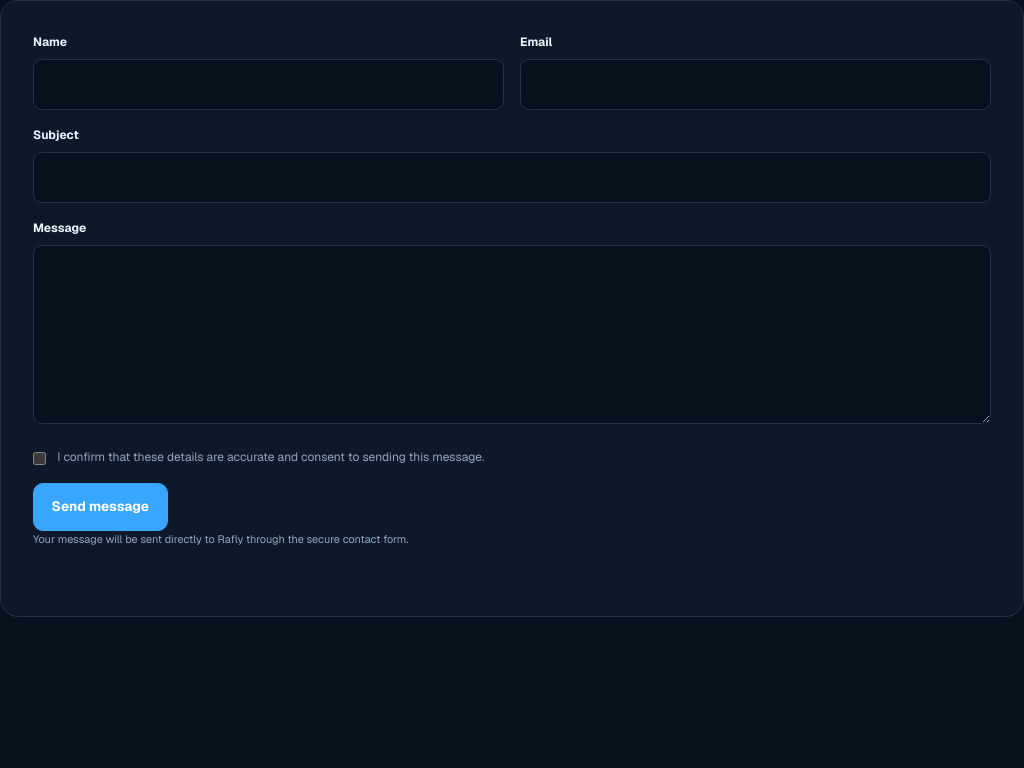
Test: ContactForm › preserves values on server failure
The width and height of the screenshot is (1024, 768).
Step 1. Type "Test Visitor" into the field labelled "Name" → point(268, 84), box [33,59,504,110]
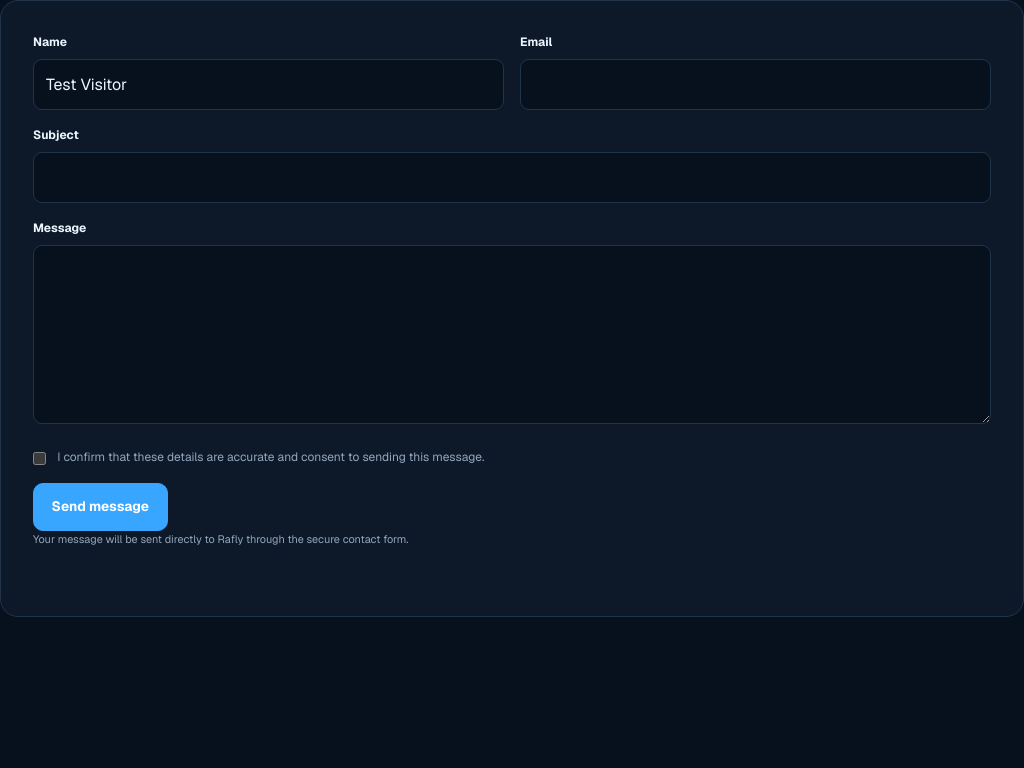
Step 2. Type "visitor@example.com" into the field labelled "Email" → point(756, 84), box [520,59,991,110]
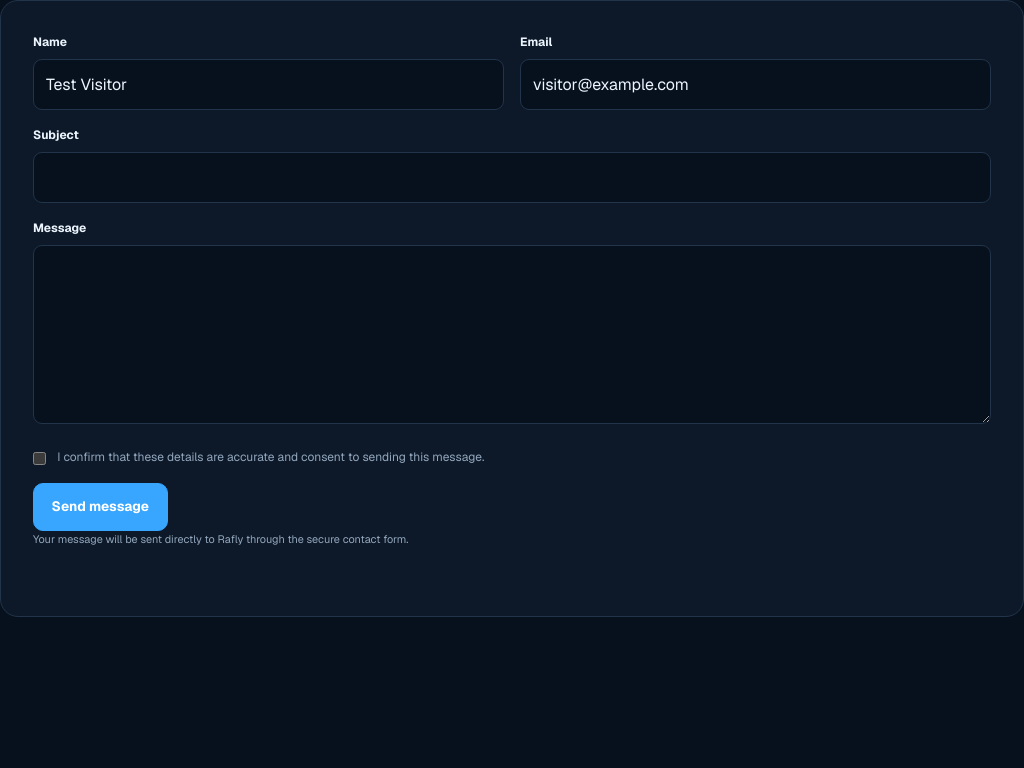
Step 3. Type "Project discussion" into the field labelled "Subject" → point(512, 178), box [33,152,991,203]
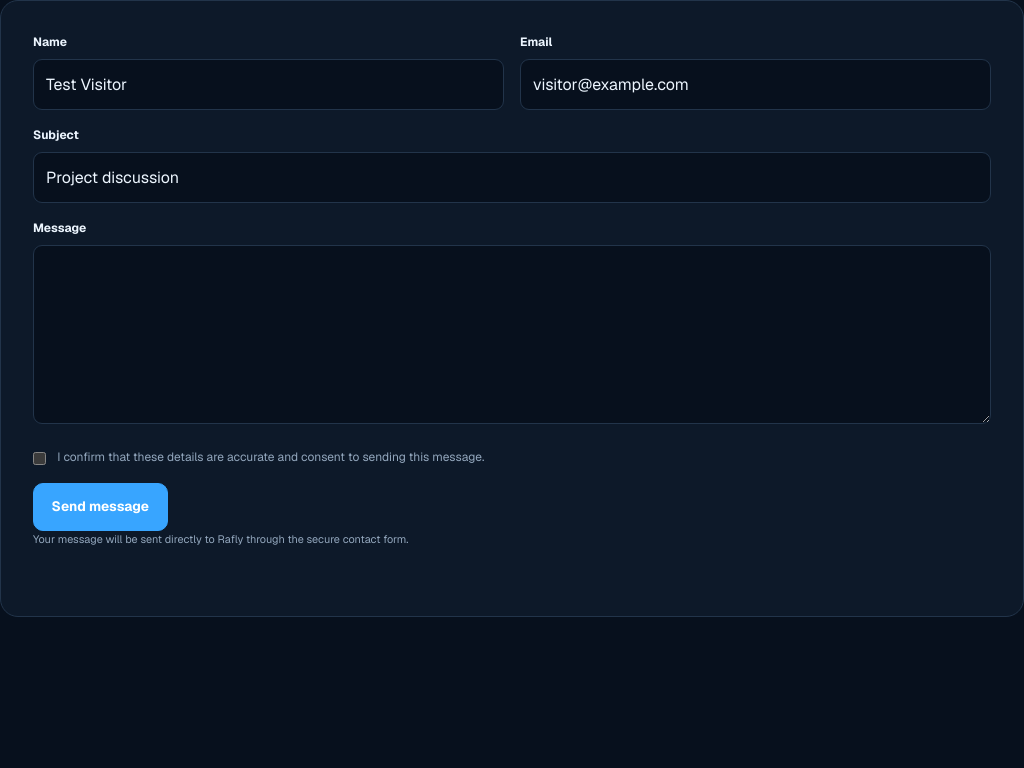
Step 4. Type "I would like to discuss a technology project with you." into the text box labelled "Message" → point(512, 335), box [33,245,991,424]
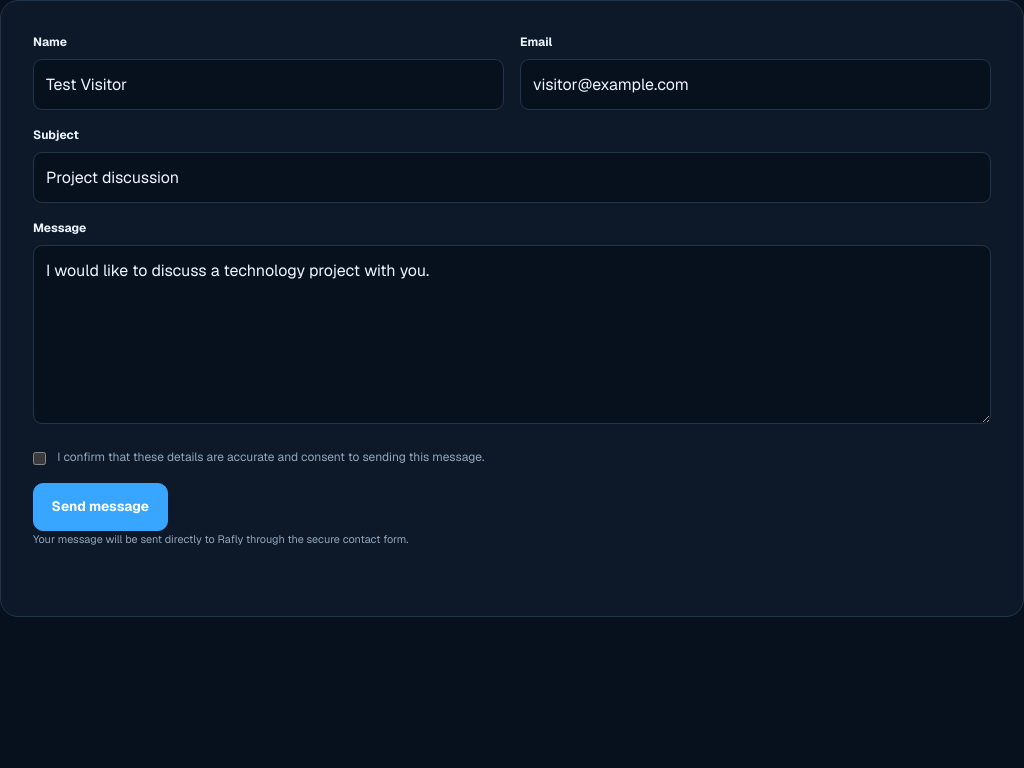
Step 5. Click the checkbox → point(40, 459), box [33,452,46,465]
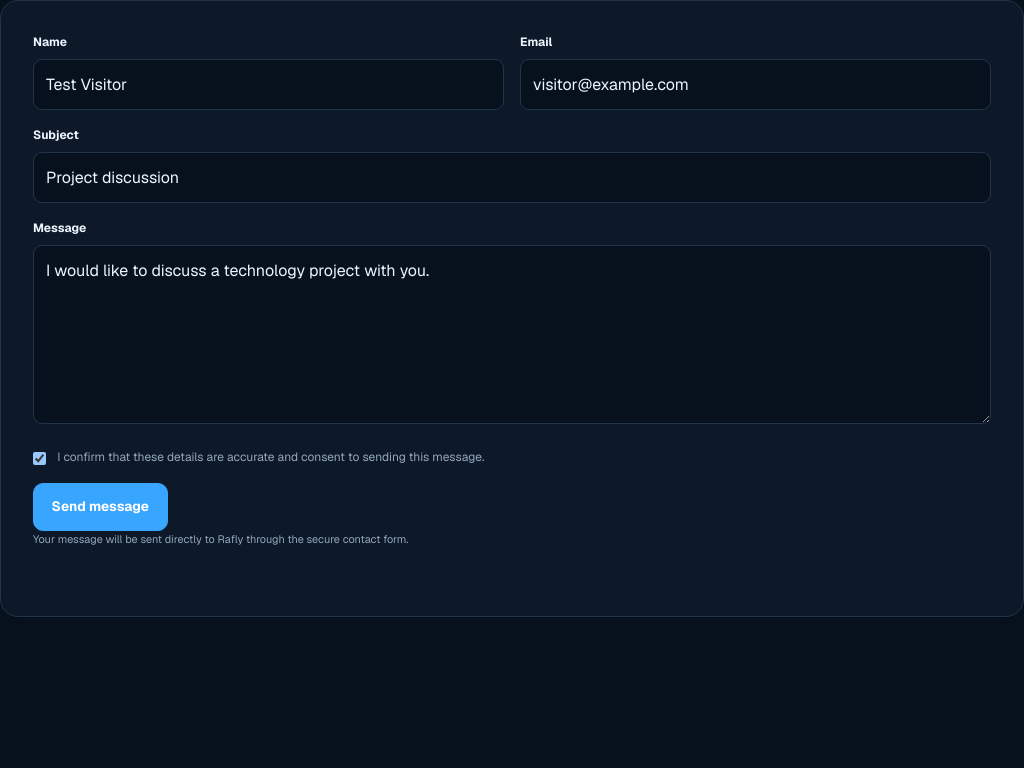
Step 6. Click the button "Send message" → point(100, 507), box [33,483,168,531]
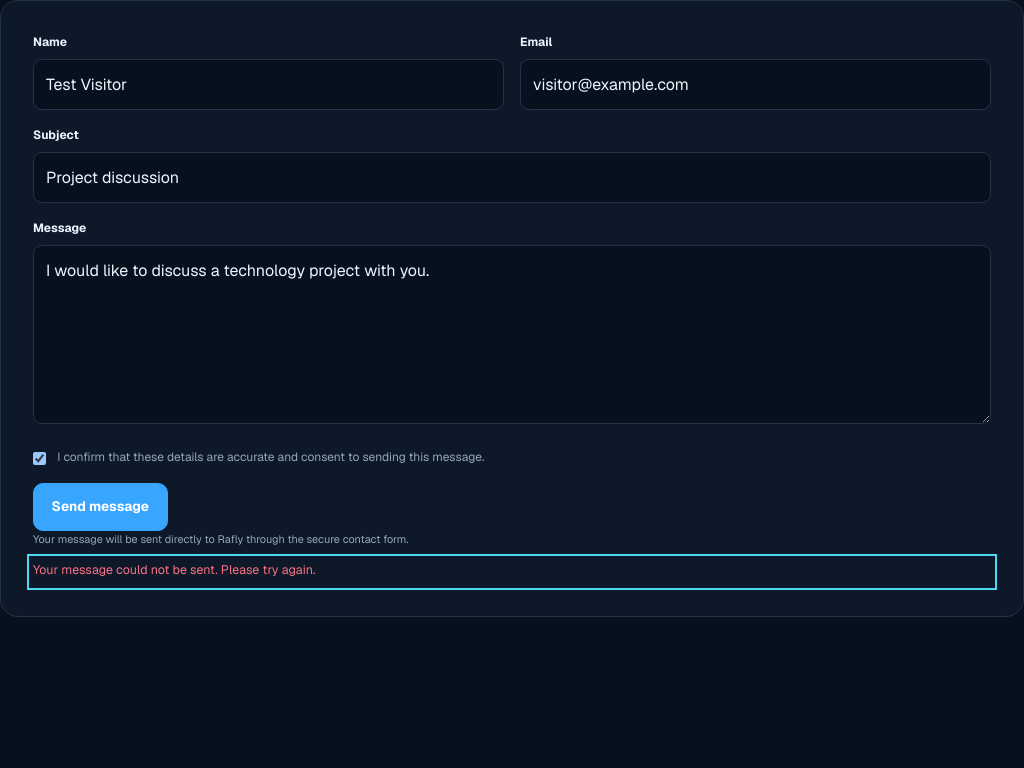
Expected: the text "Your message could not be sent. Please try again." is shown, [33,561,316,578]
